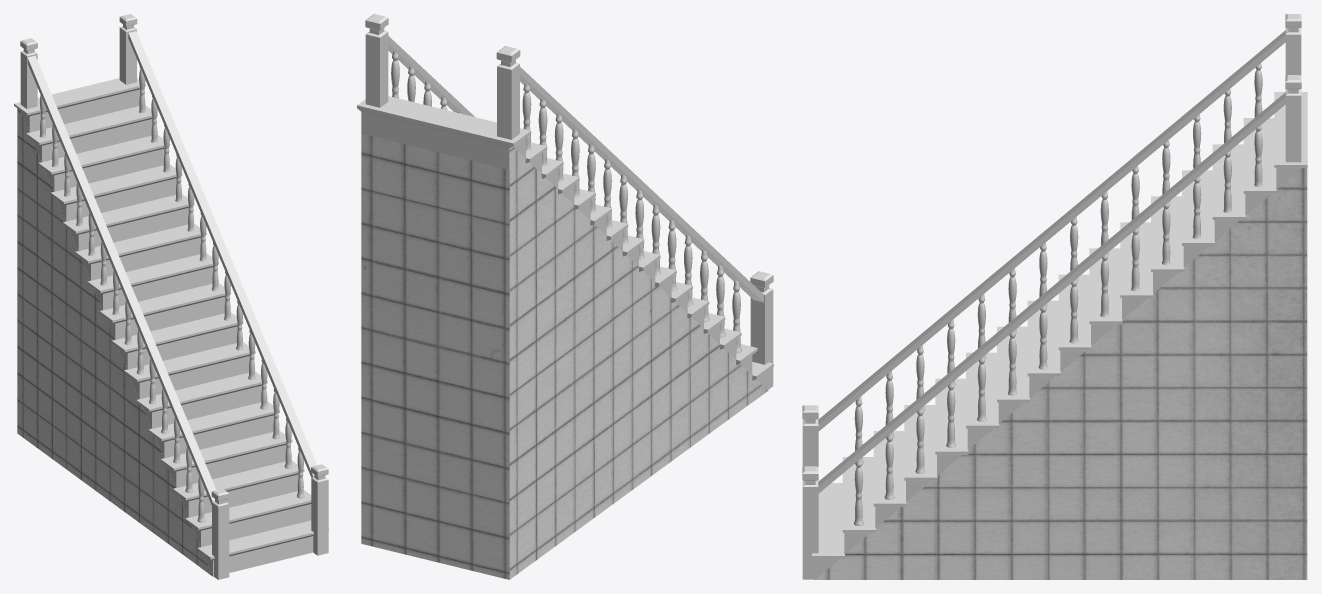
Rendered from den_stairs_full_extended_16.fbx.
3 views of the same model, side by side, from view 1: azimuth 30°, elevation 25°; view 2: azimuth 150°, elevation 25°; view 3: azimuth 270°, elevation 25° (orthographic). The views are drawn at different scales.
Parts seen in each view (by area): view 1: Cube.018, Cube, Cube.021, Cube.020, Cube.019, Cube.001; view 2: Cube, Cube.018, Cube.020, Cube.021, Cube.001, Cube.019; view 3: Cube, Cube.018, Cube.020, Cube.021, Cube.019, Cube.001.
Part boxes in pixels (left/top/right/bottom): Cube.018: left=14, top=78, right=328, bottom=576; Cube: left=17, top=108, right=212, bottom=575; Cube.021: left=27, top=31, right=316, bottom=505; Cube.020: left=39, top=66, right=304, bottom=522; Cube.019: left=211, top=464, right=328, bottom=579; Cube.001: left=20, top=14, right=137, bottom=108; Cube: left=361, top=134, right=767, bottom=579; Cube.018: left=357, top=96, right=773, bottom=401; Cube.020: left=391, top=51, right=741, bottom=353; Cube.021: left=388, top=36, right=763, bottom=302; Cube.001: left=365, top=14, right=520, bottom=139; Cube.019: left=750, top=271, right=773, bottom=388; Cube: left=815, top=168, right=1307, bottom=579; Cube.018: left=812, top=92, right=1307, bottom=579; Cube.020: left=854, top=63, right=1262, bottom=525; Cube.021: left=818, top=30, right=1285, bottom=493; Cube.019: left=802, top=405, right=818, bottom=579; Cube.001: left=1285, top=14, right=1301, bottom=162.
Bounding box in the file's own units: 211 × 675 × 619.
